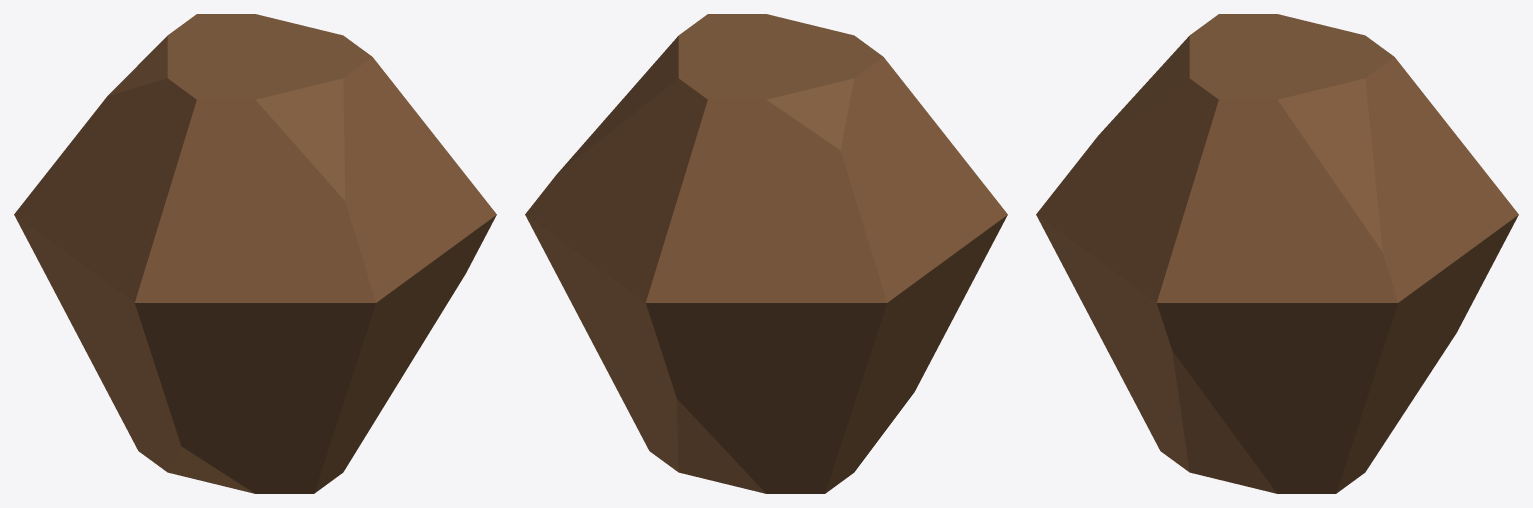
The model's file is Debris2.fbx.
3 views of the same model, side by side, from view 1: azimuth 30°, elevation 25°; view 2: azimuth 150°, elevation 25°; view 3: azimuth 270°, elevation 25° (orthographic).
Visible parts, largest first — view 1: mergedBlocks; view 2: mergedBlocks; view 3: mergedBlocks.
Boxes of the visible parts, <box> form: mergedBlocks: <box>14,14,496,493</box>; mergedBlocks: <box>525,14,1007,493</box>; mergedBlocks: <box>1036,14,1518,493</box>.
Size of the model in its own units: 10 by 10.4 by 11.55.
